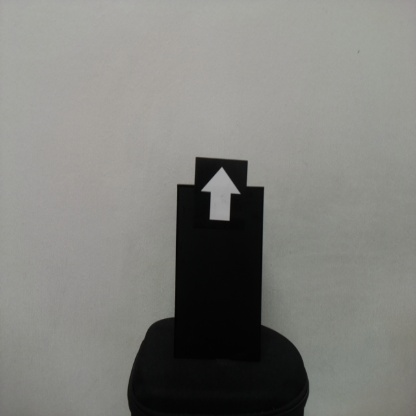id_1: (196, 159, 247, 233)
